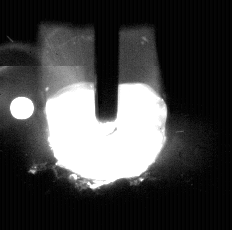arame: (95, 0, 119, 136)
poca: (47, 0, 167, 230)
